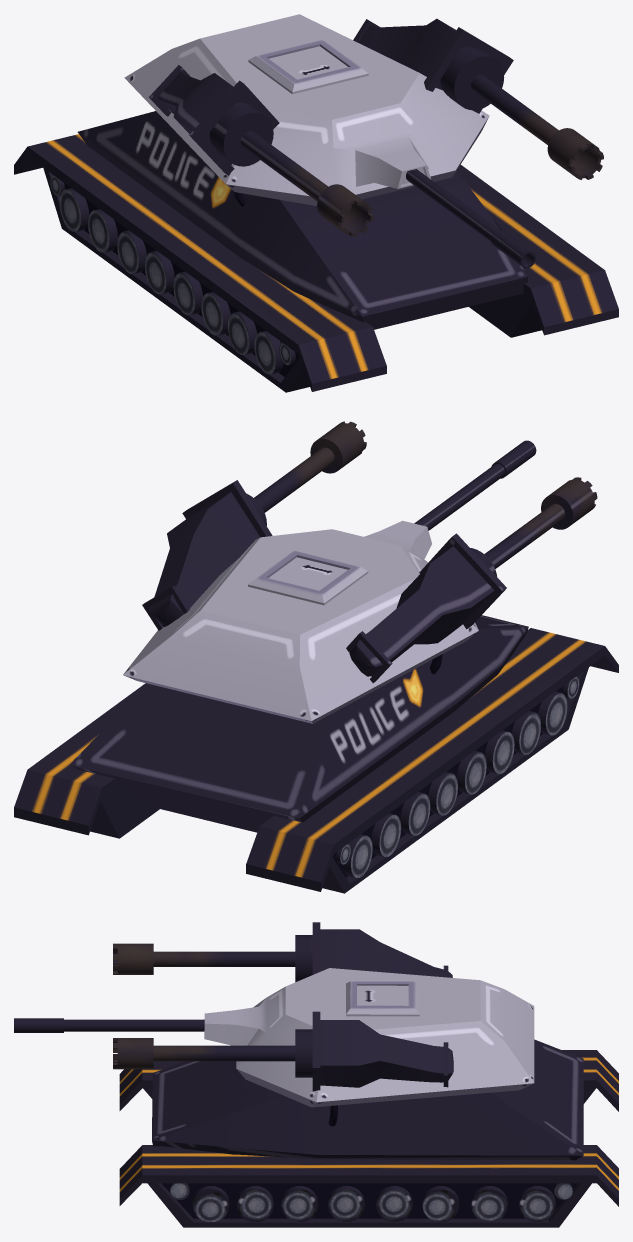
File: Tank.fbx
3 renders of one model, top to bottom at view 1: azimuth 30°, elevation 25°; view 2: azimuth 150°, elevation 25°; view 3: azimuth 270°, elevation 25°, orthographic. The views are drawn at different scales.
Parts seen in each view (by area): view 1: REAL Tank 2; view 2: REAL Tank 2; view 3: REAL Tank 2.
Boxes of the visible parts, x1,y1,x2,y2 form: REAL Tank 2: (14, 14, 618, 392); REAL Tank 2: (14, 421, 618, 893); REAL Tank 2: (14, 922, 618, 1227).
Bounding box in the file's own units: 389 × 283 × 760.
